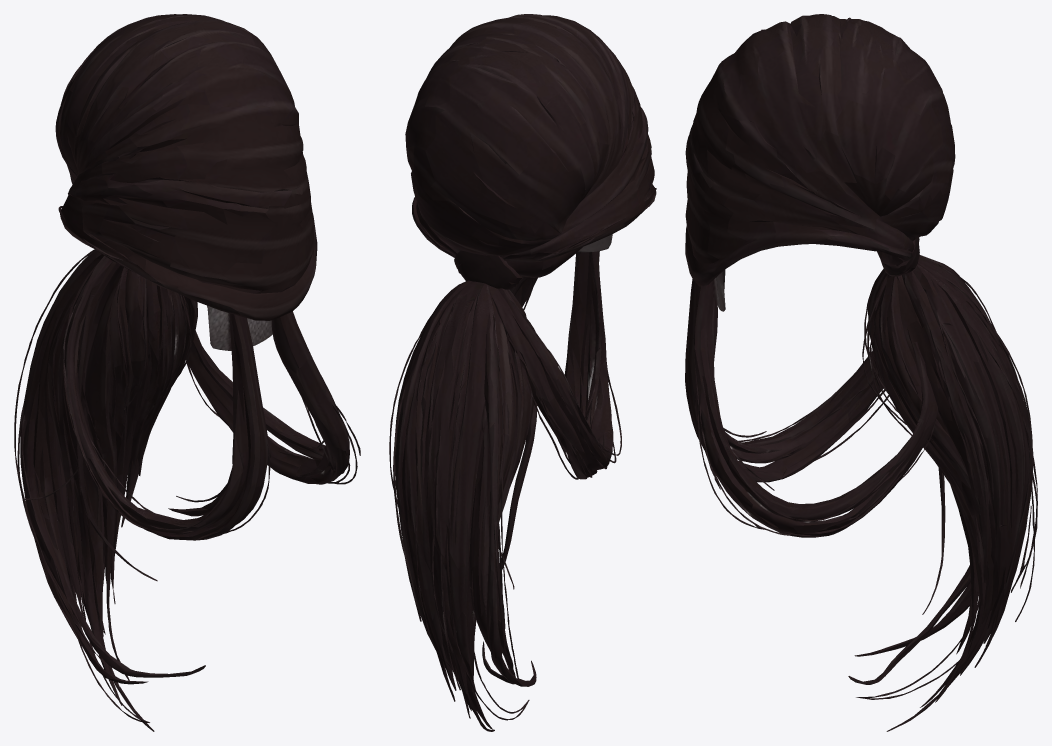
The model's file is hair_m_long.glb.
3 views of the same model, side by side, from view 1: azimuth 30°, elevation 25°; view 2: azimuth 150°, elevation 25°; view 3: azimuth 270°, elevation 25° (orthographic). The views are drawn at different scales.
Bounding box in the file's own units: 0.6711 × 1.9 × 0.8627.
1 material, 1 textured.
